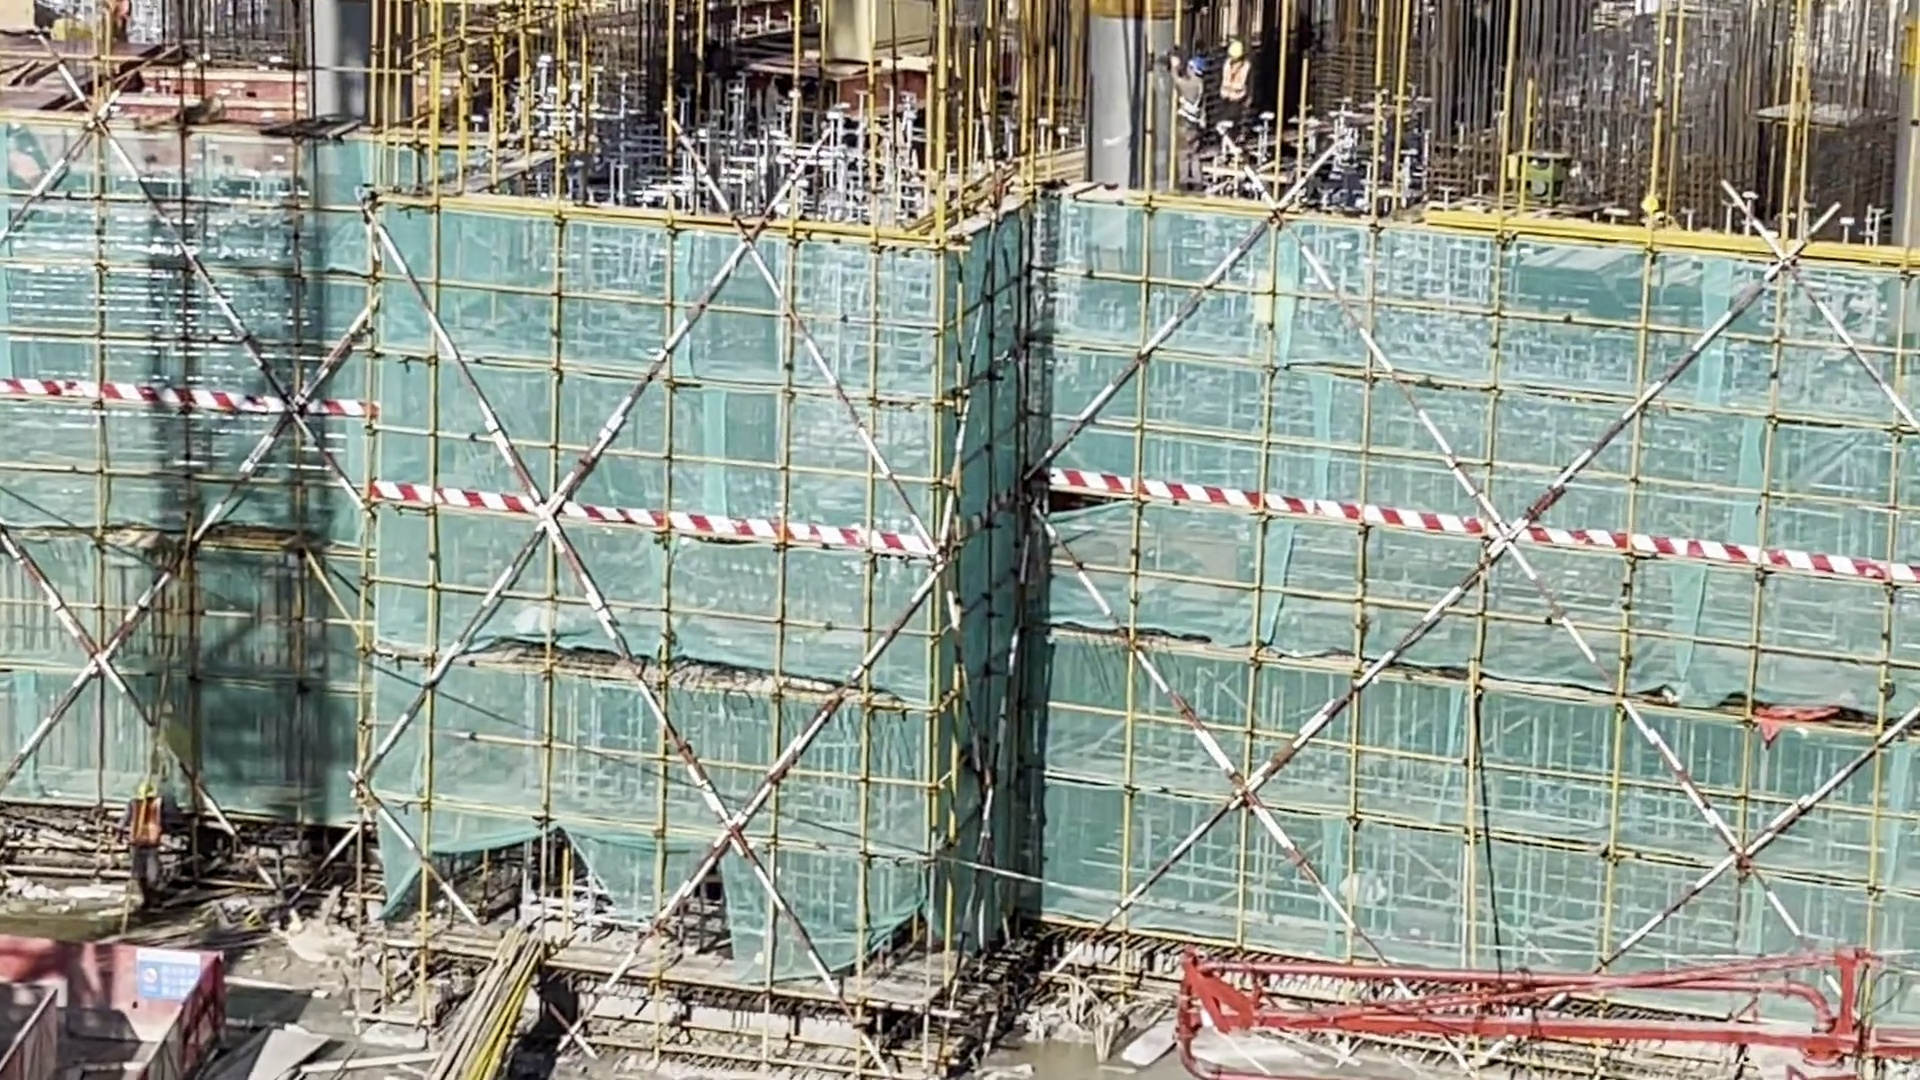fence: (11, 931, 223, 1080)
helmet: (1190, 55, 1204, 77), (1228, 40, 1242, 59), (138, 776, 152, 795)
person: (121, 779, 169, 914), (1169, 50, 1202, 185), (1223, 37, 1252, 137)
slogan: (129, 947, 204, 1006)
vest: (132, 801, 162, 845), (1224, 53, 1243, 99), (1181, 92, 1208, 126)
